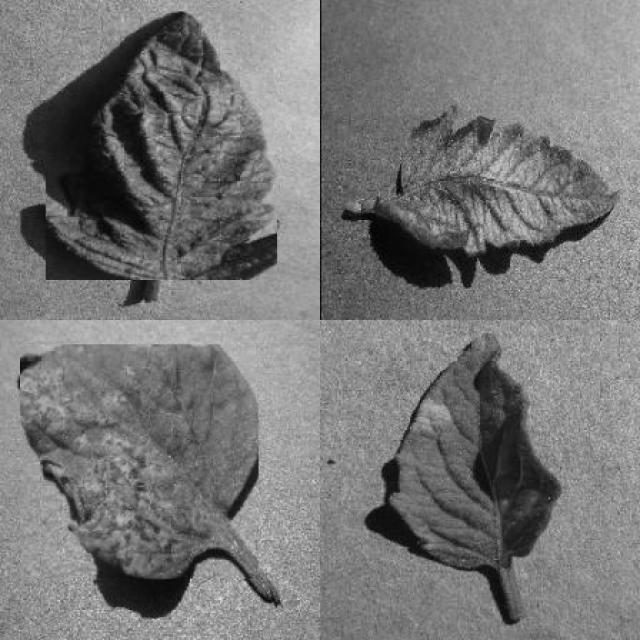Leaf Mold: (389, 330, 561, 570)
Mosaic Virus: (377, 100, 620, 254)
Septoria: (20, 344, 259, 579)
Spider Mites: (45, 12, 278, 280)
